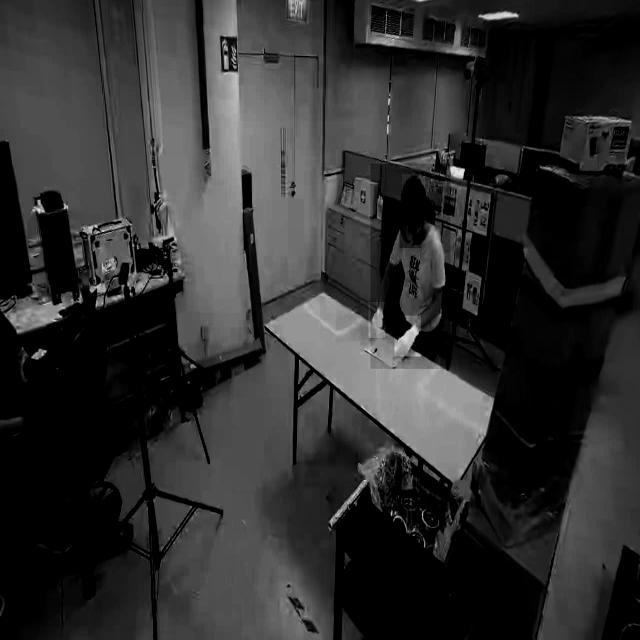face_mask: (399, 205, 422, 248)
hand_glove: (394, 316, 422, 358), (368, 302, 386, 339)
head_nohelmet: (402, 174, 426, 202)
person: (371, 163, 451, 370)
